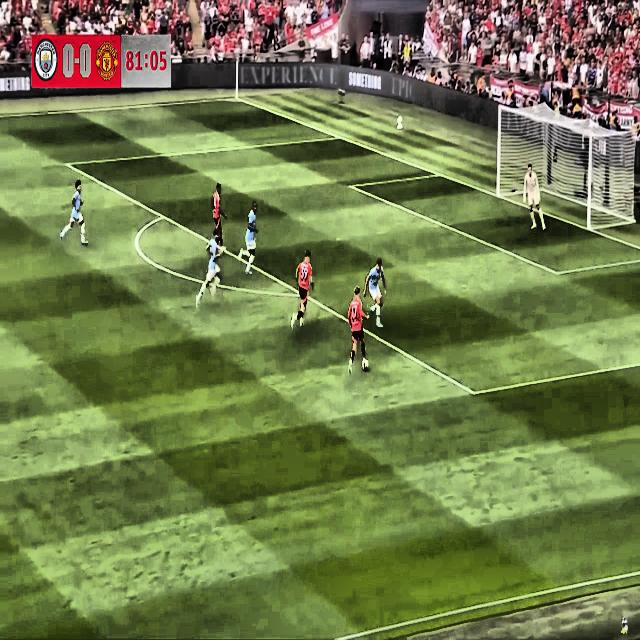ball: (360, 350, 372, 378)
goal_keeper: (518, 162, 550, 238)
players: (194, 224, 227, 318), (287, 248, 319, 334), (236, 195, 264, 290), (59, 174, 92, 250), (360, 254, 389, 335), (345, 286, 368, 375), (208, 182, 228, 255)
